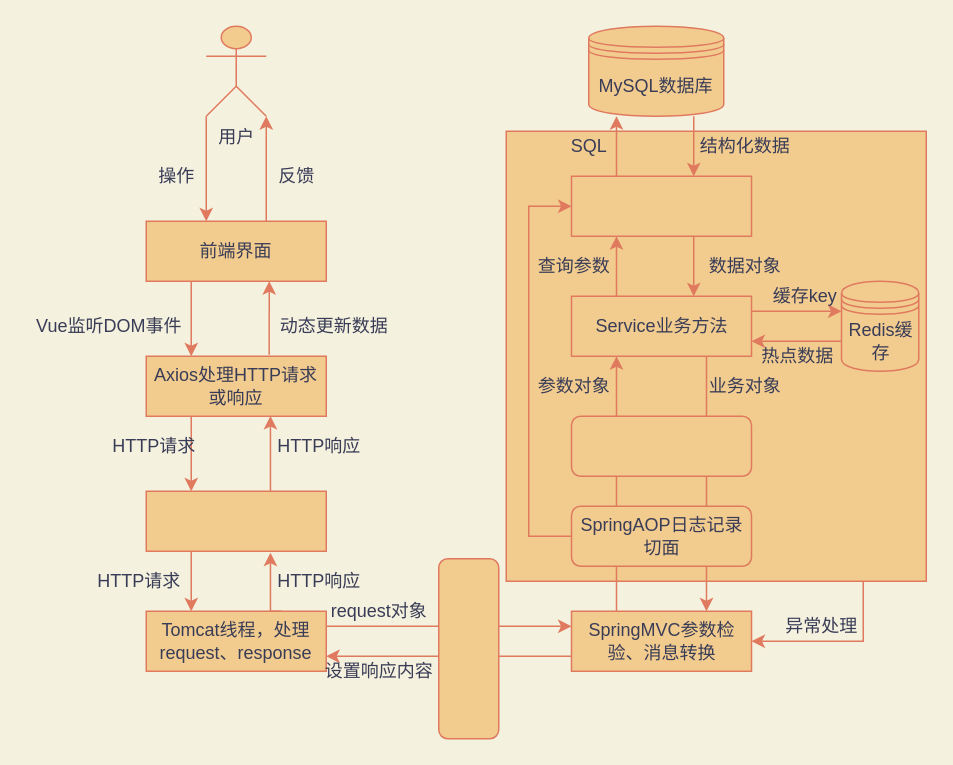
Image size: 953x765. Some labels were removed from this diagram. The shapes that lost their labels are listed below. From the top down, each one's box as (x1, y1, x2, y2) in pixels, then its label:
(570, 175, 752, 236): MyBatis数据访问
(570, 415, 752, 476): SpringAOP权限认证切面
(145, 490, 326, 551): Nginx服务器
(437, 557, 499, 739): Filter过滤器管理认证上下文
